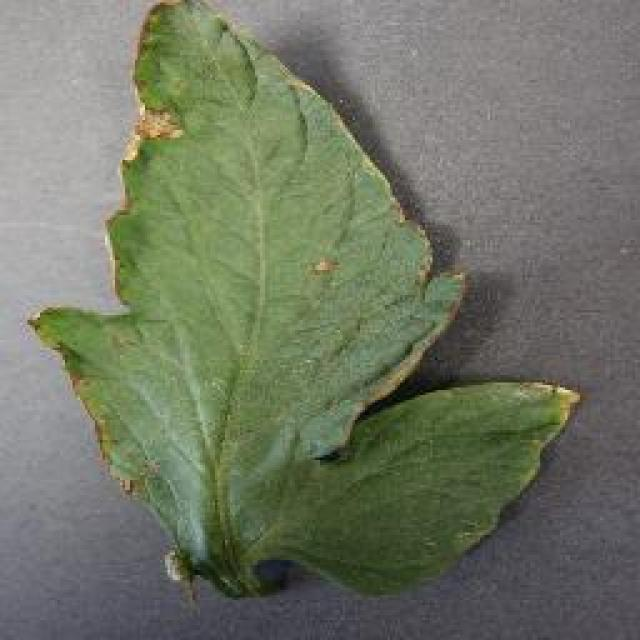Tomato bacterial spot leaf: (62, 1, 558, 599)
